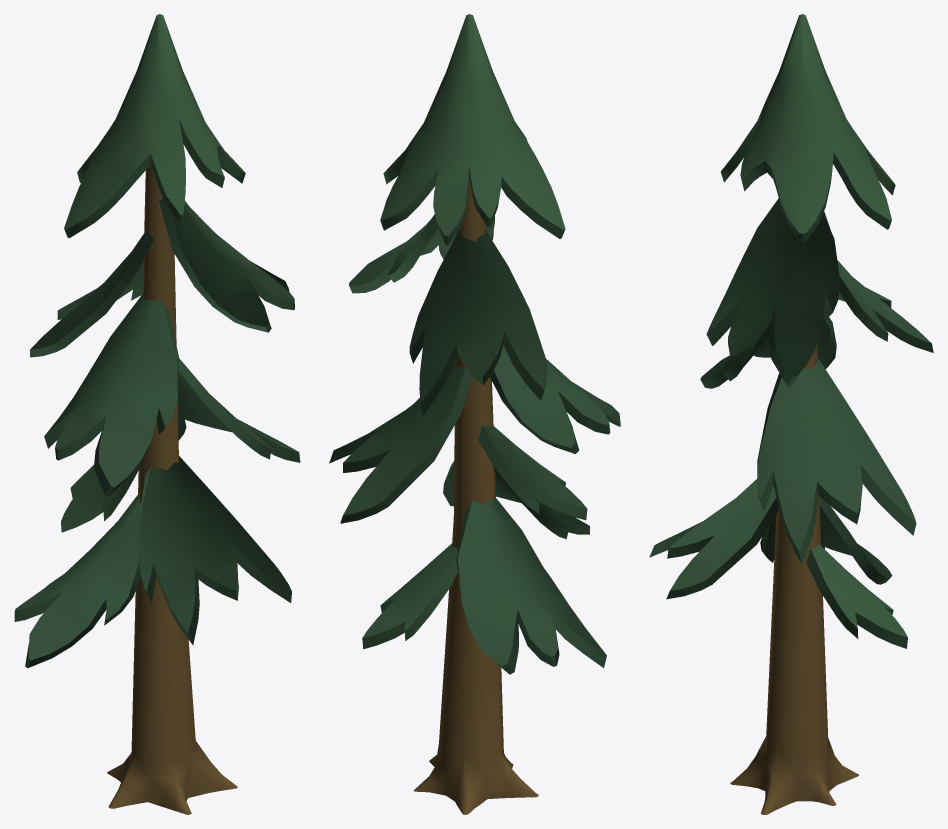
File: SM_Spruce_F.fbx
The picture shows the model from 3 angles, left to right: view 1: azimuth 30°, elevation 25°; view 2: azimuth 150°, elevation 25°; view 3: azimuth 270°, elevation 25°; orthographic projection.
Visible parts, largest first — view 1: SM_Spruce_F; view 2: SM_Spruce_F; view 3: SM_Spruce_F.
Boxes of the visible parts, x1,y1,x2,y2 form: SM_Spruce_F: [14, 14, 300, 814]; SM_Spruce_F: [329, 14, 620, 814]; SM_Spruce_F: [649, 14, 933, 814].
Bounding box in the file's own units: 336 × 903 × 302.
